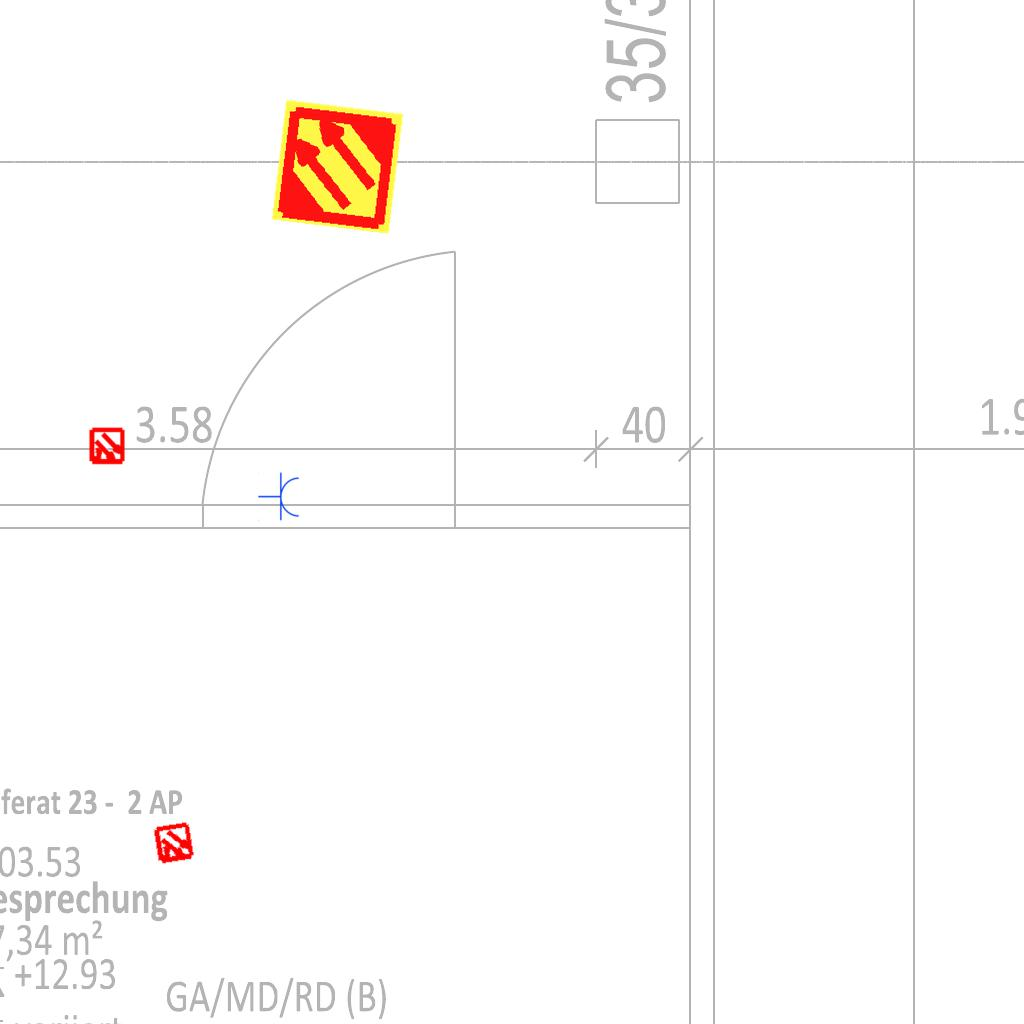ASR_Ansaugrauchmelder: (267, 96, 408, 237)
OT_Multisensormelder_(Kombination_RMO_WMD): (141, 811, 207, 877), (79, 419, 135, 475)
Schukosteckdose_einfach: (258, 472, 301, 522)
